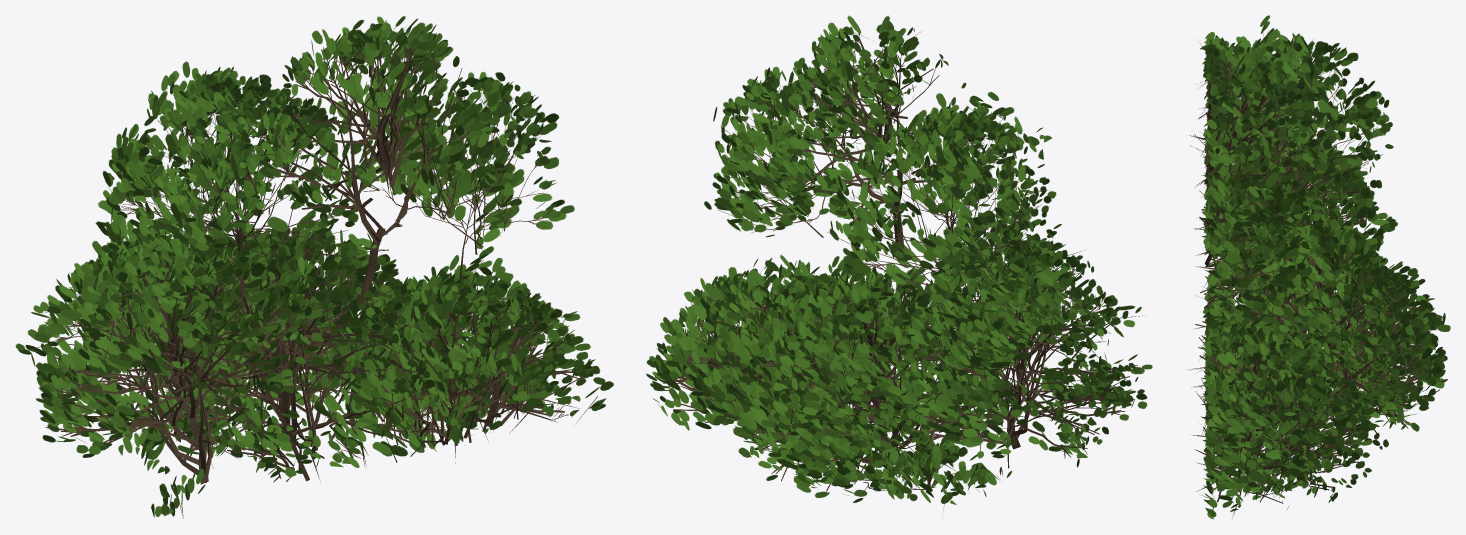
3 views of the same model, side by side, from view 1: azimuth 30°, elevation 25°; view 2: azimuth 150°, elevation 25°; view 3: azimuth 270°, elevation 25° (orthographic). The views are drawn at different scales.
Parts seen in each view (by area): view 1: oak 01.001_trunk_Mat.001_0.464; view 2: oak 01.001_trunk_Mat.001_0.464; view 3: oak 01.001_trunk_Mat.001_0.464.
Part boxes in pixels (box(x1,y1,x2,y2)): oak 01.001_trunk_Mat.001_0.464: box(15, 16, 613, 518); oak 01.001_trunk_Mat.001_0.464: box(646, 15, 1152, 510); oak 01.001_trunk_Mat.001_0.464: box(1186, 15, 1450, 519).
Bounding box in the file's own units: 4.97 × 4.01 × 2.42.
2 materials, 1 textured.
